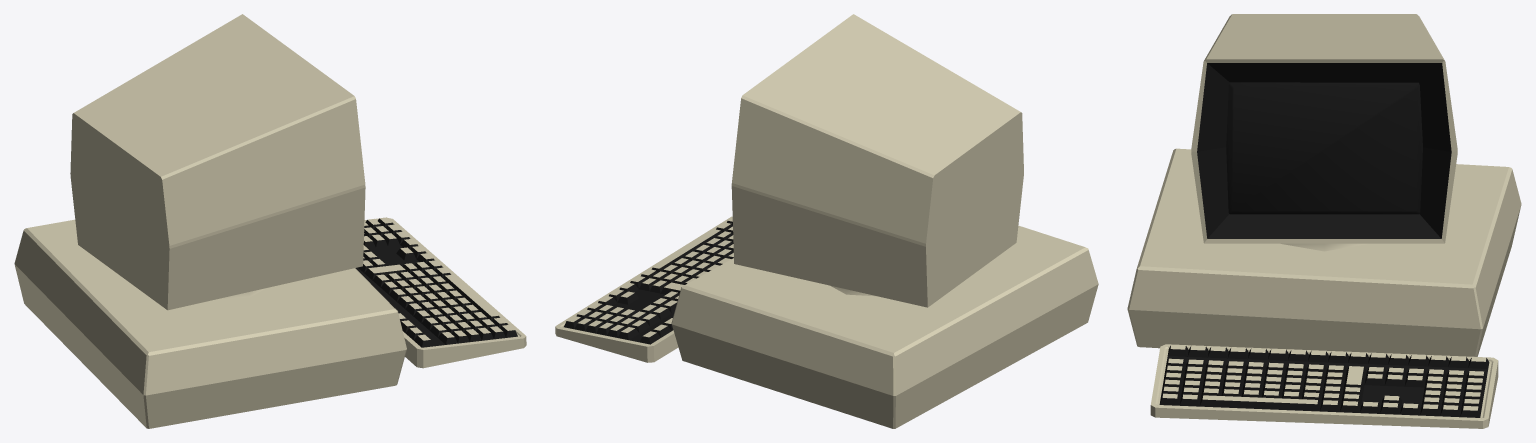
The model's file is computer2.fbx.
3 renders of one model, left to right at view 1: azimuth 30°, elevation 25°; view 2: azimuth 150°, elevation 25°; view 3: azimuth 270°, elevation 25°, orthographic. The views are drawn at different scales.
Visible parts, largest first — view 1: case, case.001; view 2: case, case.001; view 3: case, case.001.
Part boxes in pixels (x1,y1,x2,y2): case: [14, 14, 406, 428]; case.001: [355, 217, 526, 368]; case: [671, 14, 1098, 428]; case.001: [555, 216, 733, 362]; case: [1127, 14, 1521, 356]; case.001: [1150, 344, 1498, 428].
Size of the model in its own units: 79.83 by 51.18 by 64.75.
